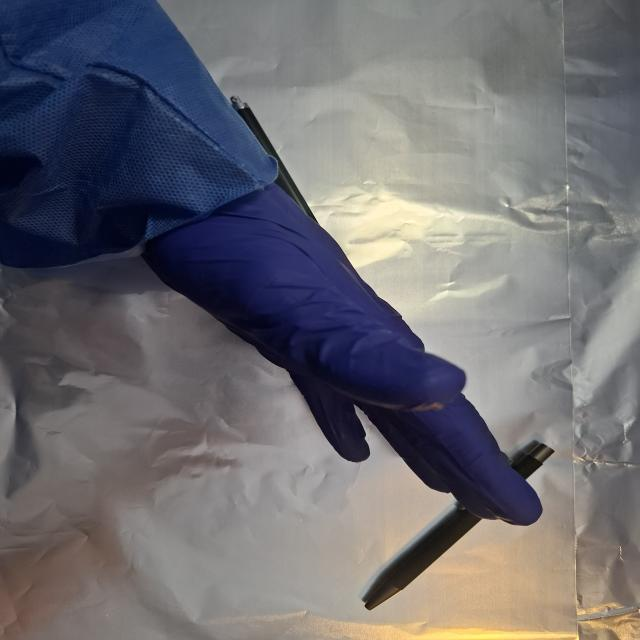glove_on: (134, 173, 546, 530)
